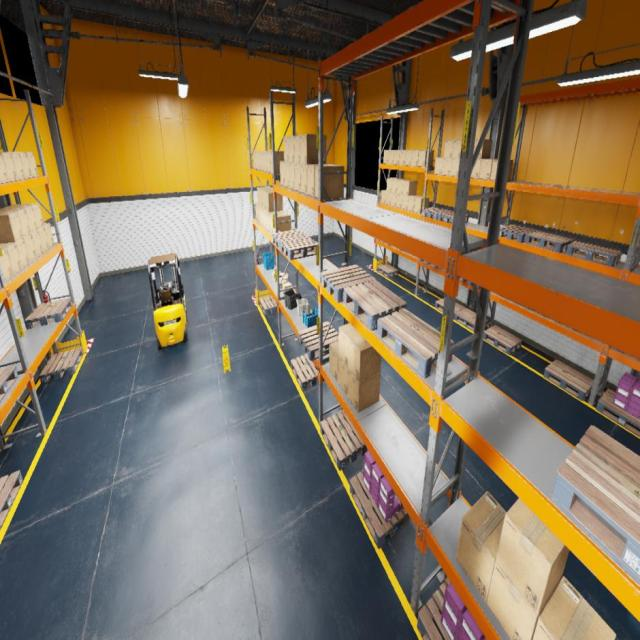box: (496, 498, 569, 616), (487, 560, 561, 640), (456, 491, 506, 602), (533, 576, 616, 639), (348, 334, 381, 382), (347, 369, 381, 413), (314, 165, 344, 199), (0, 205, 37, 232), (6, 203, 44, 229), (338, 322, 359, 368), (0, 208, 31, 236), (307, 164, 331, 197), (300, 134, 326, 164), (0, 211, 23, 244), (0, 242, 22, 275), (0, 152, 25, 180), (0, 248, 14, 281), (491, 160, 514, 180), (2, 153, 18, 181), (16, 238, 30, 268), (479, 158, 498, 180), (338, 356, 348, 396), (269, 210, 286, 233), (329, 340, 338, 382), (265, 190, 282, 212), (24, 234, 37, 262), (272, 213, 291, 232), (31, 230, 44, 257), (473, 140, 492, 158), (19, 152, 32, 178), (270, 151, 284, 174), (256, 187, 272, 206), (417, 150, 434, 167), (38, 226, 49, 252), (0, 153, 9, 183), (258, 151, 272, 170), (27, 152, 38, 176), (44, 222, 54, 248), (414, 196, 429, 213), (407, 194, 421, 212), (260, 188, 272, 208), (402, 180, 417, 196), (300, 164, 307, 194), (263, 189, 273, 210), (397, 179, 410, 194), (399, 150, 412, 165), (392, 178, 404, 194), (470, 159, 480, 178), (452, 140, 462, 159), (450, 159, 460, 176), (434, 158, 444, 175), (294, 164, 300, 192), (294, 136, 300, 164), (288, 136, 294, 164), (283, 136, 289, 163), (288, 163, 294, 190), (444, 140, 453, 158), (443, 158, 452, 176), (387, 178, 397, 192), (571, 328, 588, 336), (284, 163, 289, 187), (411, 151, 419, 166), (553, 320, 570, 327), (405, 150, 412, 166), (538, 313, 553, 320), (282, 282, 292, 292), (280, 161, 284, 186), (402, 194, 408, 210), (267, 151, 271, 172), (264, 151, 268, 172), (266, 210, 270, 231), (386, 191, 392, 205), (388, 150, 394, 164), (280, 273, 288, 283), (255, 150, 259, 170), (520, 304, 533, 310), (383, 150, 389, 163), (397, 194, 402, 208), (391, 193, 396, 207), (381, 190, 386, 204), (394, 150, 399, 164), (496, 293, 507, 299), (261, 151, 264, 171), (507, 299, 519, 304), (263, 209, 266, 228), (261, 207, 264, 226), (255, 202, 258, 221), (279, 280, 286, 288), (272, 271, 280, 278), (253, 151, 256, 168), (258, 205, 261, 222)
forklift: (148, 253, 187, 350)
pallets: (551, 425, 640, 583), (377, 308, 454, 378), (350, 470, 409, 549), (344, 280, 407, 331), (321, 410, 367, 470), (416, 578, 451, 640), (543, 360, 594, 401), (321, 264, 376, 302), (596, 389, 640, 436), (39, 346, 84, 384), (298, 322, 338, 361), (25, 297, 72, 329), (566, 241, 622, 267), (0, 470, 23, 530), (291, 354, 324, 391), (483, 325, 522, 354), (524, 230, 575, 252), (280, 237, 318, 260), (455, 308, 488, 332), (0, 364, 18, 402), (272, 230, 308, 249), (499, 225, 539, 242), (435, 298, 465, 318), (259, 295, 281, 315), (438, 211, 469, 224), (422, 208, 451, 220), (616, 349, 640, 362), (377, 264, 398, 278), (460, 277, 480, 289), (438, 268, 459, 278), (419, 259, 438, 269), (378, 240, 390, 245), (0, 282, 2, 290)
